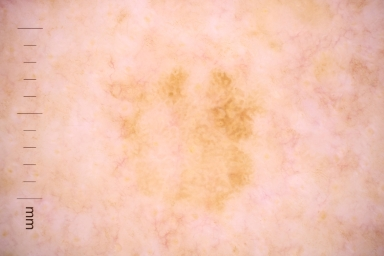melanoma: (110, 67, 253, 206)
